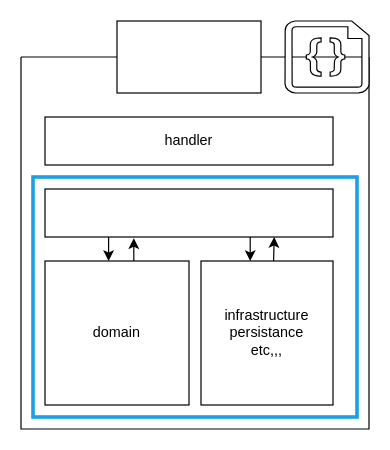
Image size: 390x450. Some labels were removed from this diagram. The shapes that lost their labels are listed below. From the top down, each one's centre as x and y in pixels, then its label:
At [188,56]: "Application Code".
At [188,212]: "usecase".
